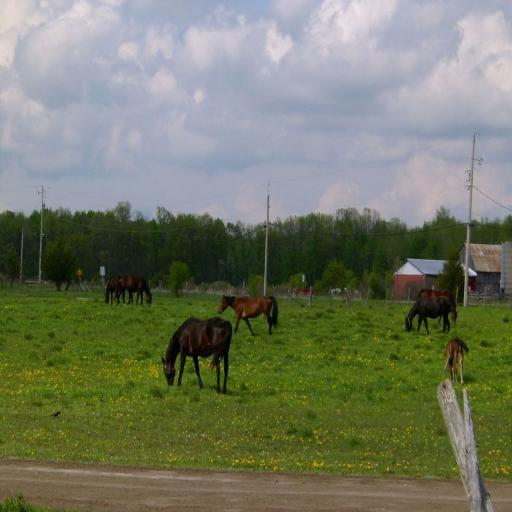horse: (162, 315, 234, 395), (218, 294, 280, 336), (404, 295, 451, 333), (442, 336, 469, 388), (419, 288, 459, 322), (116, 276, 154, 310), (103, 273, 134, 306)
